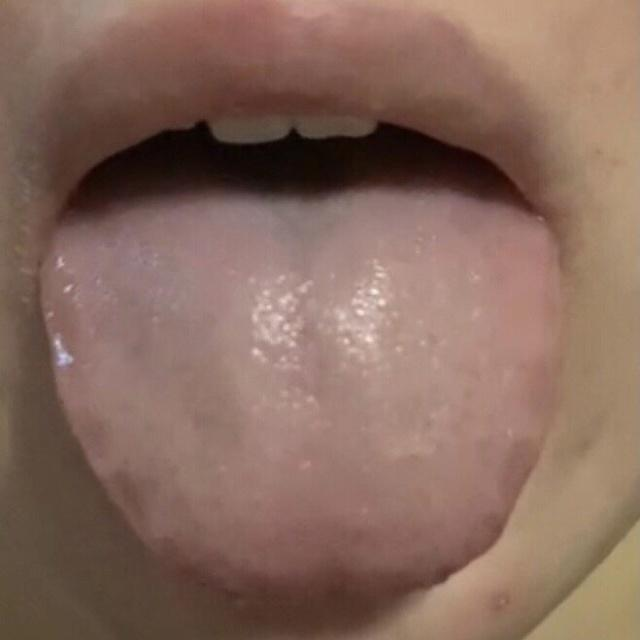chihenshe: (38, 282, 144, 539), (464, 435, 543, 565)
pangdashe: (39, 158, 560, 607)
